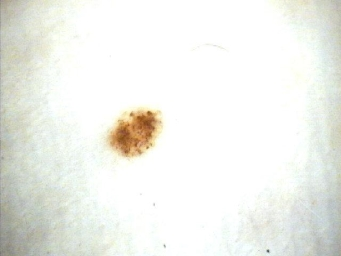melanoma: (107, 108, 164, 159)
